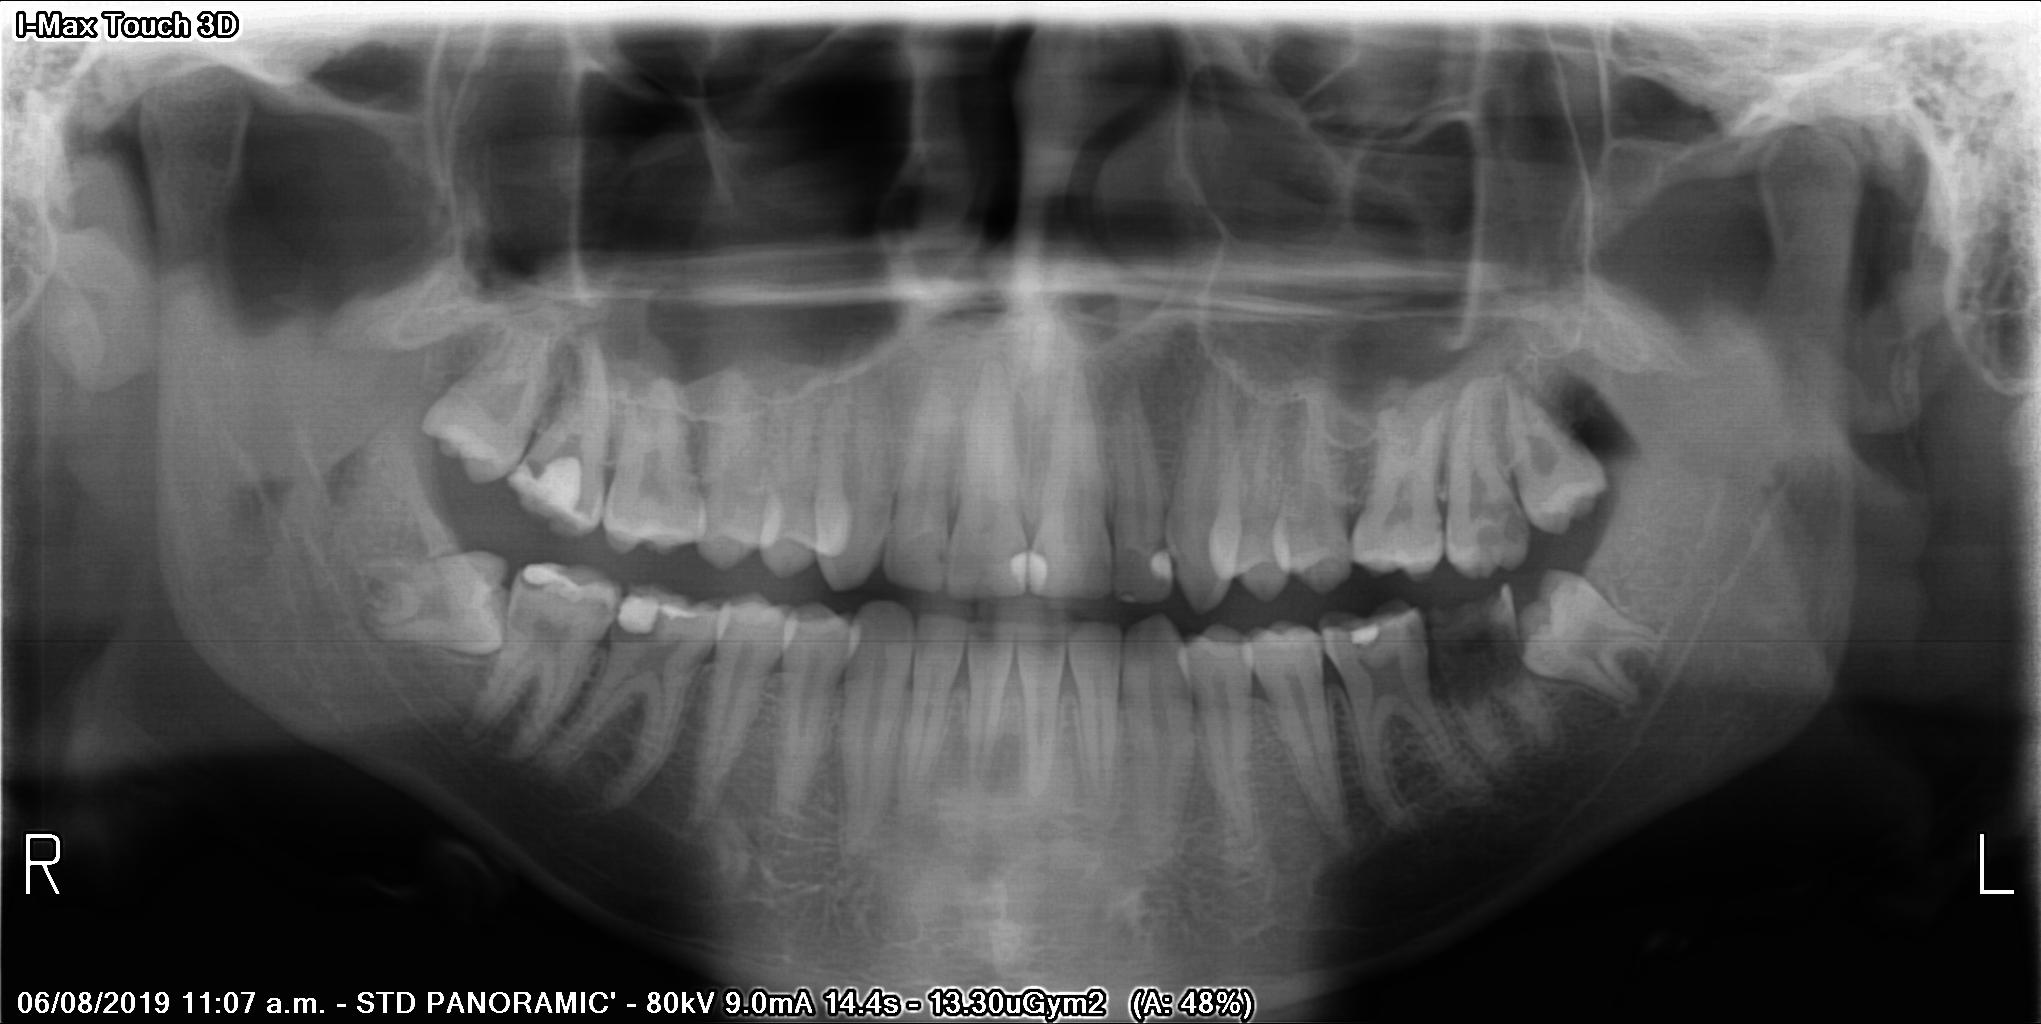Çürük: (518, 445, 578, 532), (520, 563, 628, 605), (616, 597, 689, 626), (1012, 556, 1046, 589), (1149, 550, 1182, 579), (1350, 627, 1380, 644)
Çürük Bölgesi: (1430, 593, 1517, 704), (1465, 500, 1540, 569), (546, 434, 592, 457), (618, 626, 663, 647), (524, 452, 548, 482), (939, 547, 958, 577), (1030, 546, 1051, 566), (1012, 539, 1032, 559), (1153, 532, 1171, 552), (1357, 636, 1383, 650), (522, 581, 548, 594)
